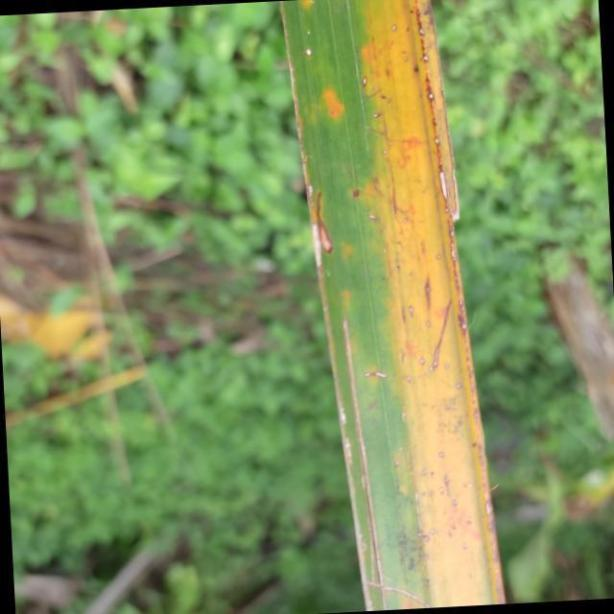Megnesium: (272, 0, 507, 614)
